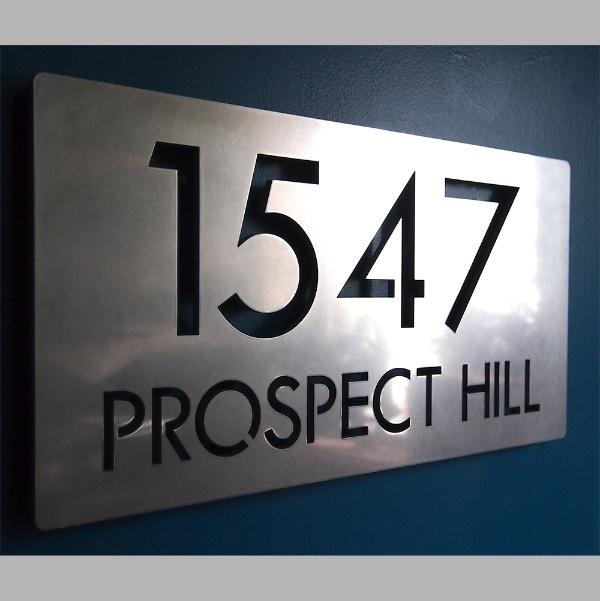text: (161, 138, 176, 344), (177, 138, 192, 344), (193, 138, 208, 344), (209, 138, 224, 344), (225, 138, 240, 344), (241, 138, 256, 344), (257, 138, 272, 344), (273, 138, 288, 344), (289, 138, 304, 344), (305, 138, 320, 344), (321, 138, 336, 344), (337, 138, 352, 344), (353, 138, 368, 344), (369, 138, 384, 344), (385, 138, 400, 344), (401, 138, 416, 344), (417, 138, 432, 344), (433, 138, 448, 344), (449, 138, 464, 344), (465, 138, 480, 344), (481, 138, 496, 344), (497, 138, 512, 344), (147, 138, 160, 344), (513, 138, 523, 344), (113, 363, 128, 477), (129, 363, 144, 477), (145, 363, 160, 477), (161, 363, 176, 477), (177, 363, 192, 477), (193, 363, 208, 477), (209, 363, 224, 477), (225, 363, 240, 477), (241, 363, 256, 477), (257, 363, 272, 477), (273, 363, 288, 477), (289, 363, 304, 477), (305, 363, 320, 477), (321, 363, 336, 477), (337, 363, 352, 477), (353, 363, 368, 477), (369, 363, 384, 477), (385, 363, 400, 477), (401, 363, 416, 477), (417, 363, 432, 477), (433, 363, 444, 477), (465, 358, 480, 425), (481, 358, 496, 425), (497, 358, 512, 425), (513, 358, 528, 425), (104, 363, 112, 477), (529, 358, 542, 425), (461, 358, 464, 425)
